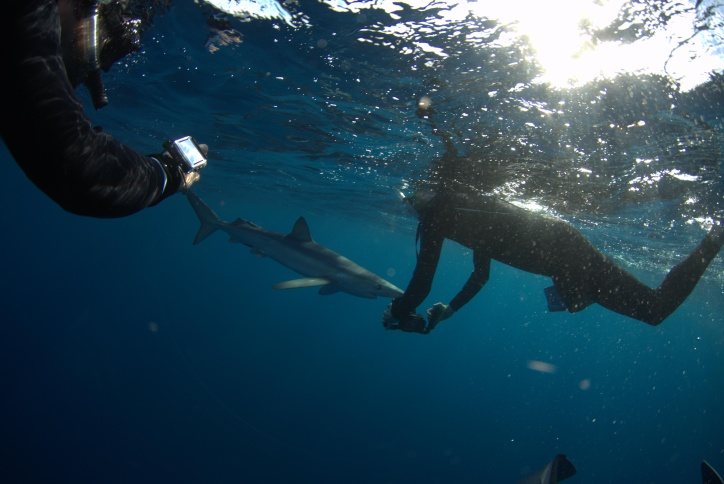Azul: (172, 183, 410, 326)
